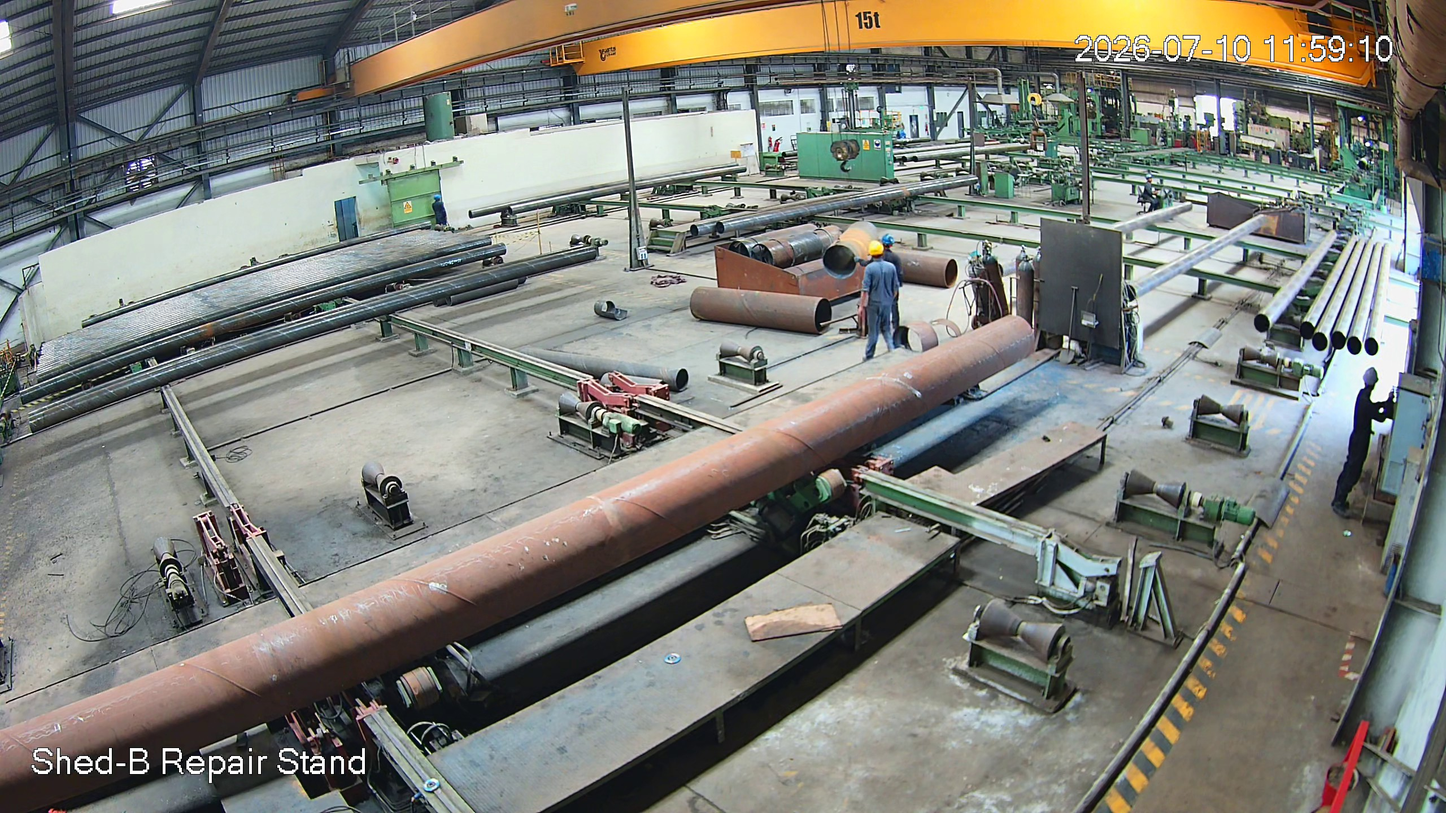Helmet: (1359, 364, 1382, 397), (875, 231, 905, 254), (865, 237, 885, 268), (433, 192, 447, 207)
Person: (1348, 365, 1387, 520), (861, 241, 901, 362), (876, 229, 904, 289), (429, 194, 448, 230)
